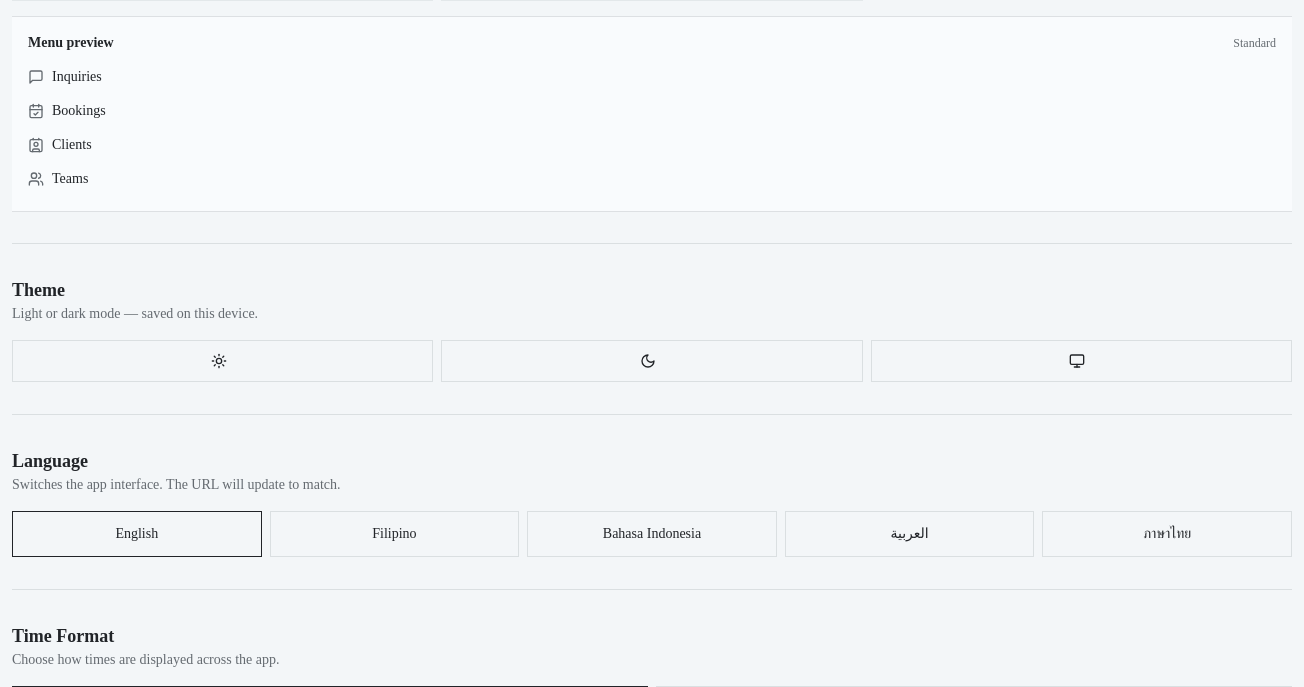
Test: CustomizePanel › disables the language buttons and shows a spinner on the clicked one while the locale change is pending
(page scrolled)
Click the button "Filipino" at (394, 534), box [270, 511, 519, 557]
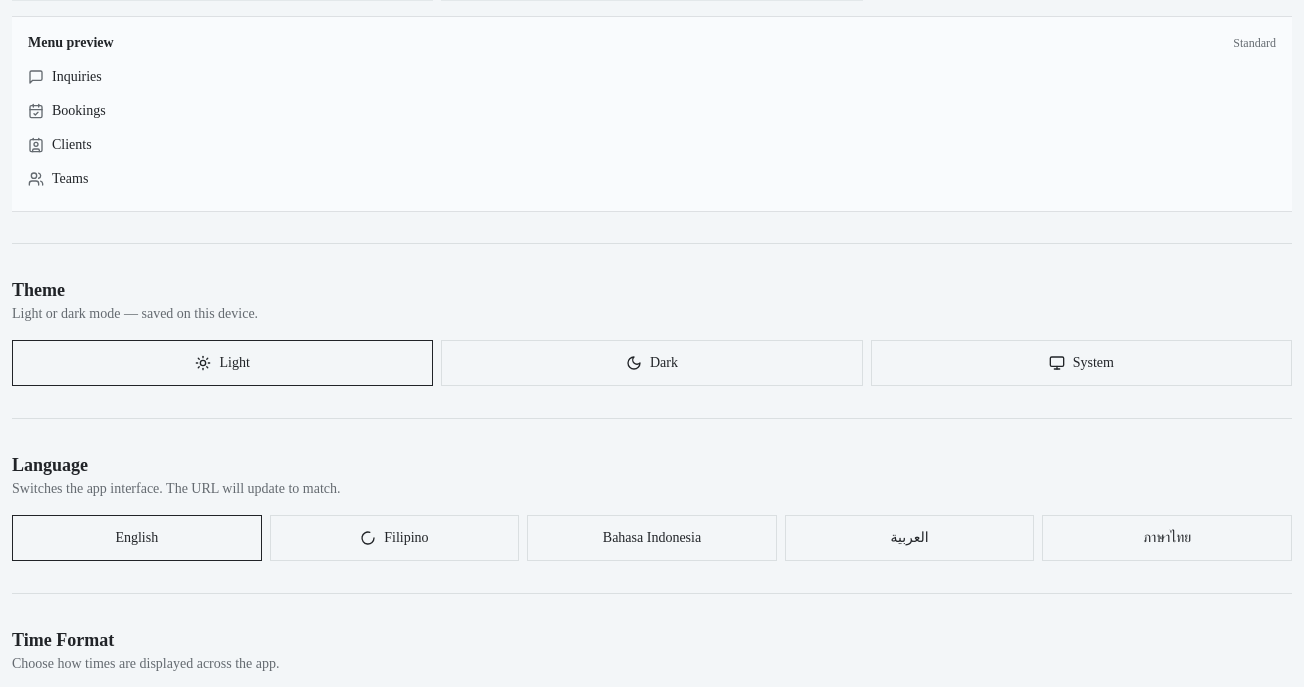
Result: the button "Filipino" is disabled at [270, 515, 519, 561]
